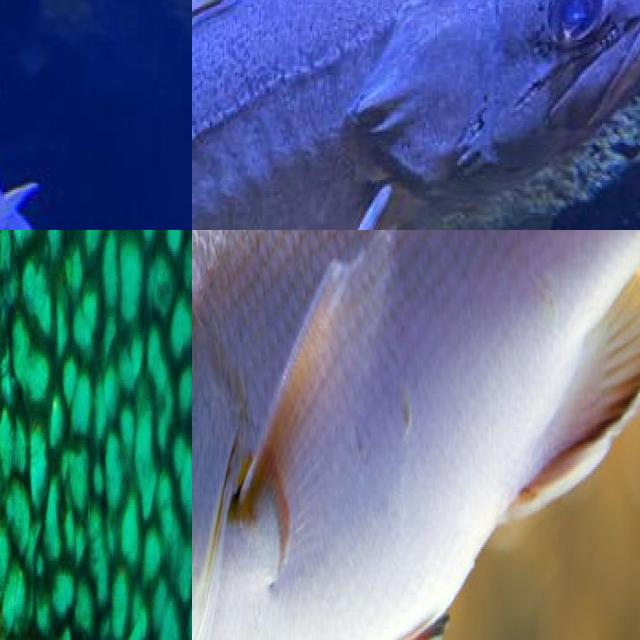fish: (0, 230, 192, 640), (0, 0, 192, 230)
